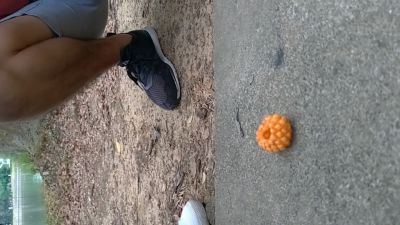eggs: (254, 113, 294, 154)
